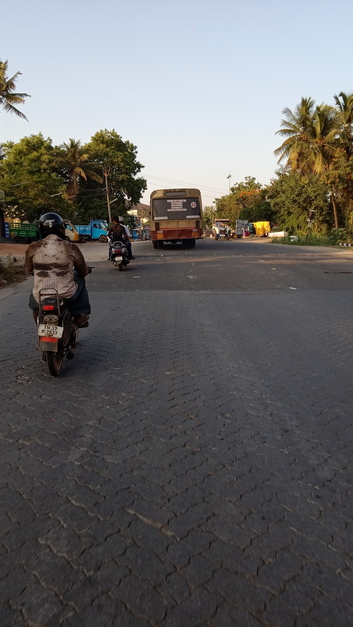bump: (134, 250, 323, 261)
